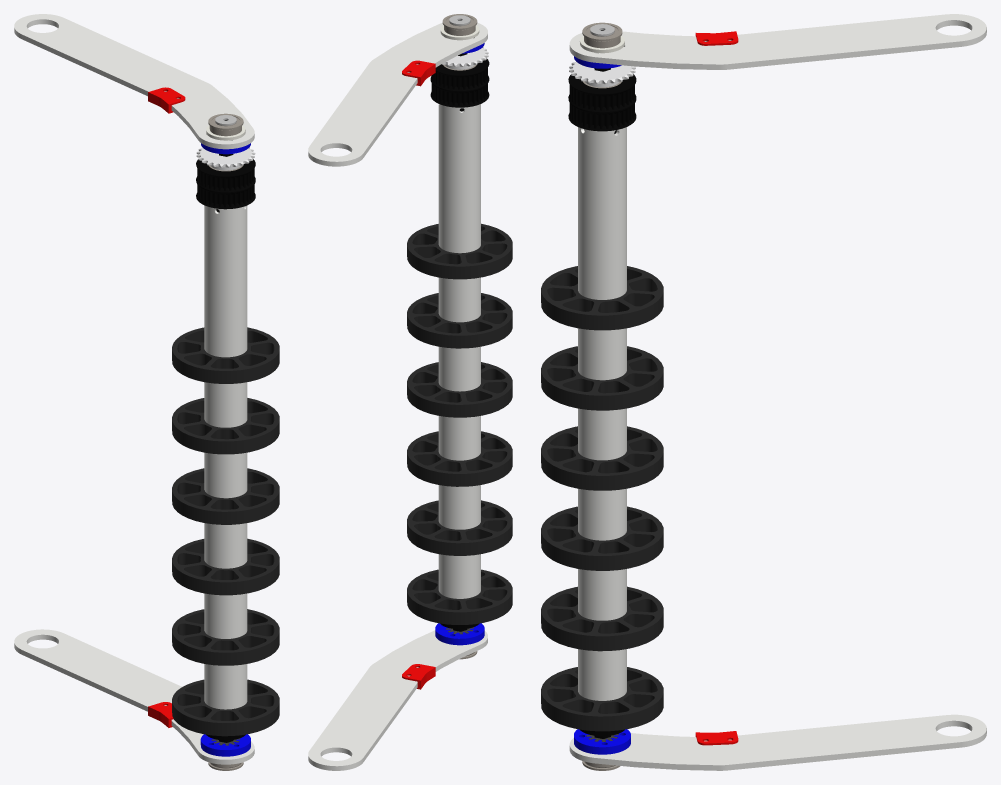
The picture shows the model from 3 angles, left to right: view 1: azimuth 30°, elevation 25°; view 2: azimuth 150°, elevation 25°; view 3: azimuth 270°, elevation 25°; orthographic projection. The views are drawn at different scales.
Parts seen in each view (by area): view 1: Pivot zombie tube v7:1, Back bar v25:1, Back bar v25:2, 3.5" Molded pivot zombie wheel v2:5, 3.5" Molded pivot zombie wheel v2:1, 3.5" Molded pivot zombie wheel v2:3, 3.5" Molded pivot zombie wheel v2:4, 3.5" Molded pivot zombie wheel v2:2, 3.5" Molded pivot zombie wheel v2:6, Compound (×2), am-3630 - S25-24HA-375H v2:1, Elbow stoppers v4:1 (+2 smaller); view 2: Pivot zombie tube v7:1, Back bar v25:1, Back bar v25:2, 3.5" Molded pivot zombie wheel v2:4, 3.5" Molded pivot zombie wheel v2:2, 3.5" Molded pivot zombie wheel v2:3, 3.5" Molded pivot zombie wheel v2:5, 3.5" Molded pivot zombie wheel v2:6, 3.5" Molded pivot zombie wheel v2:1, Compound (×2), am-3630 - S25-24HA-375H v2:1, Elbow stoppers v4:1 (+2 smaller); view 3: Pivot zombie tube v7:1, Back bar v25:1, Back bar v25:2, 3.5" Molded pivot zombie wheel v2:4, 3.5" Molded pivot zombie wheel v2:5, 3.5" Molded pivot zombie wheel v2:3, 3.5" Molded pivot zombie wheel v2:6, 3.5" Molded pivot zombie wheel v2:1, 3.5" Molded pivot zombie wheel v2:2, Compound (×2), am-3630 - S25-24HA-375H v2:1.
Boxes of the visible parts, box(x1,y1,x2,y2) form: Pivot zombie tube v7:1: box(204, 205, 247, 709); Back bar v25:1: box(14, 14, 254, 149); Back bar v25:2: box(14, 629, 254, 764); 3.5" Molded pivot zombie wheel v2:5: box(172, 398, 279, 454); 3.5" Molded pivot zombie wheel v2:1: box(172, 679, 279, 736); 3.5" Molded pivot zombie wheel v2:3: box(172, 538, 279, 595); 3.5" Molded pivot zombie wheel v2:4: box(172, 468, 279, 524); 3.5" Molded pivot zombie wheel v2:2: box(172, 609, 279, 665); 3.5" Molded pivot zombie wheel v2:6: box(172, 327, 279, 383); Compound (×2): box(196, 159, 255, 756); am-3630 - S25-24HA-375H v2:1: box(196, 147, 255, 170); Elbow stoppers v4:1: box(148, 87, 185, 113); Pivot zombie tube v7:1: box(438, 104, 480, 598); Back bar v25:1: box(308, 23, 487, 166); Back bar v25:2: box(308, 630, 487, 770); 3.5" Molded pivot zombie wheel v2:4: box(407, 362, 512, 417); 3.5" Molded pivot zombie wheel v2:2: box(407, 500, 512, 555); 3.5" Molded pivot zombie wheel v2:3: box(407, 431, 512, 486); 3.5" Molded pivot zombie wheel v2:5: box(407, 293, 512, 348); 3.5" Molded pivot zombie wheel v2:6: box(407, 223, 512, 279); 3.5" Molded pivot zombie wheel v2:1: box(407, 569, 512, 624); Compound (×2): box(430, 58, 489, 645); am-3630 - S25-24HA-375H v2:1: box(442, 46, 488, 69); Elbow stoppers v4:1: box(402, 60, 435, 86); Pivot zombie tube v7:1: box(578, 127, 626, 700); Back bar v25:1: box(569, 14, 986, 69); Back bar v25:2: box(569, 714, 986, 770); 3.5" Molded pivot zombie wheel v2:4: box(541, 426, 663, 490); 3.5" Molded pivot zombie wheel v2:5: box(541, 346, 663, 410); 3.5" Molded pivot zombie wheel v2:3: box(541, 506, 663, 570); 3.5" Molded pivot zombie wheel v2:6: box(541, 266, 663, 330); 3.5" Molded pivot zombie wheel v2:1: box(541, 667, 663, 731); 3.5" Molded pivot zombie wheel v2:2: box(541, 586, 663, 651); Compound (×2): box(568, 74, 636, 754); am-3630 - S25-24HA-375H v2:1: box(569, 61, 635, 87).
Bounding box in the file's own units: 0.102 × 0.6286 × 0.3455.
